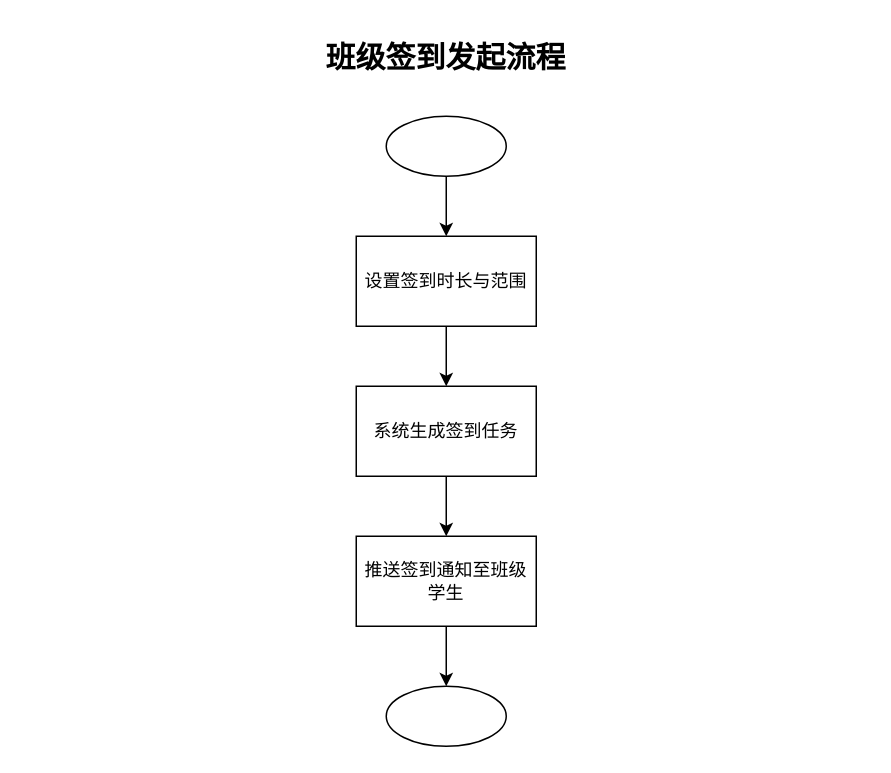
This 891x773 diagram has some shape labels left out. The centre of each missing label's shape, as x and y in pixels:
"教师发起签到" belongs at (445,145).
"签到进行中" belongs at (445,715).
